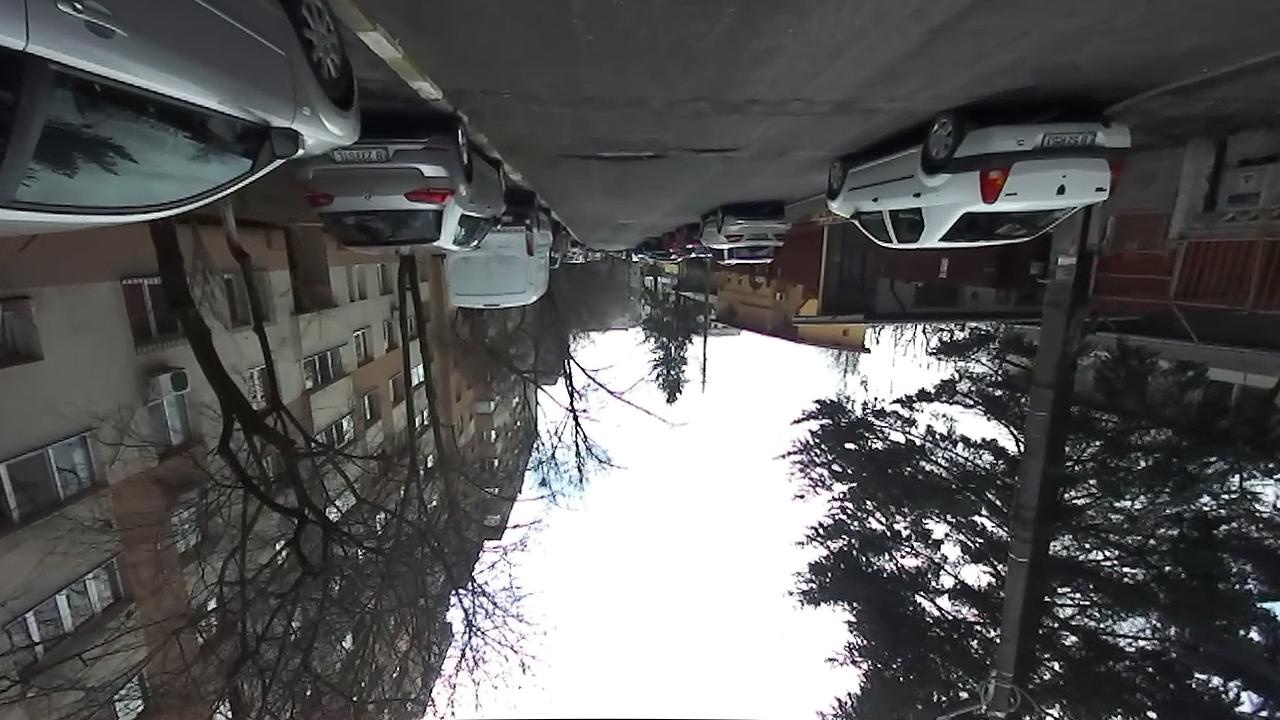pothole: (554, 145, 667, 165), (672, 143, 740, 157)
